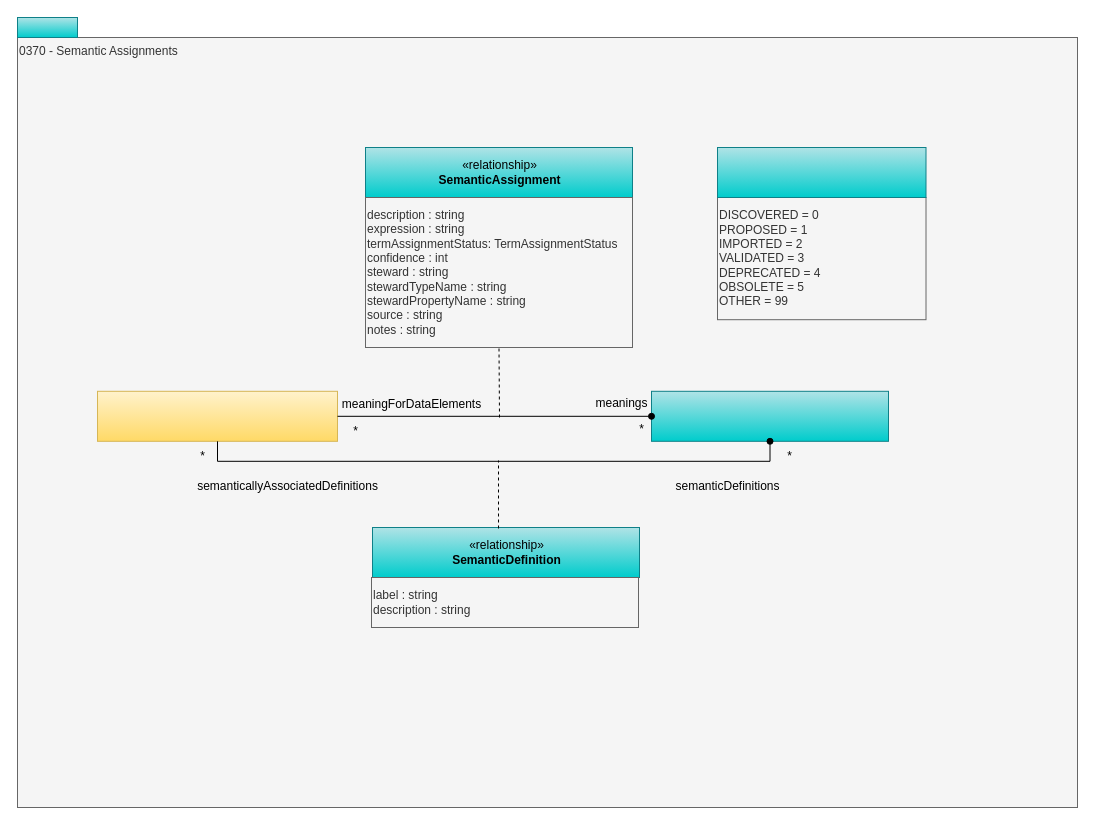
This 1095x825 diagram has some shape labels left out. Here are the shapes that lost their labels. From the top down, the box of each, then its label:
(716, 146, 926, 198): «enumeration» TermAssignmentStatus
(96, 390, 338, 441): «entity» Referenceable
(650, 390, 888, 441): «entity» GlossaryTerm
